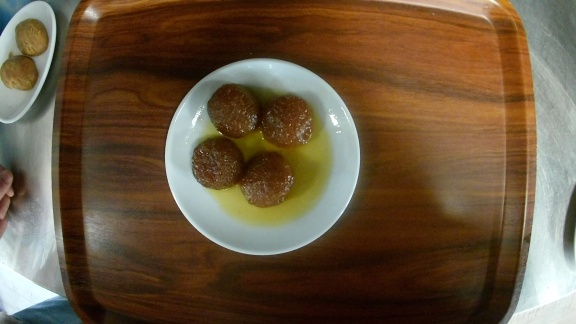kemalpasa: (166, 57, 359, 255)
